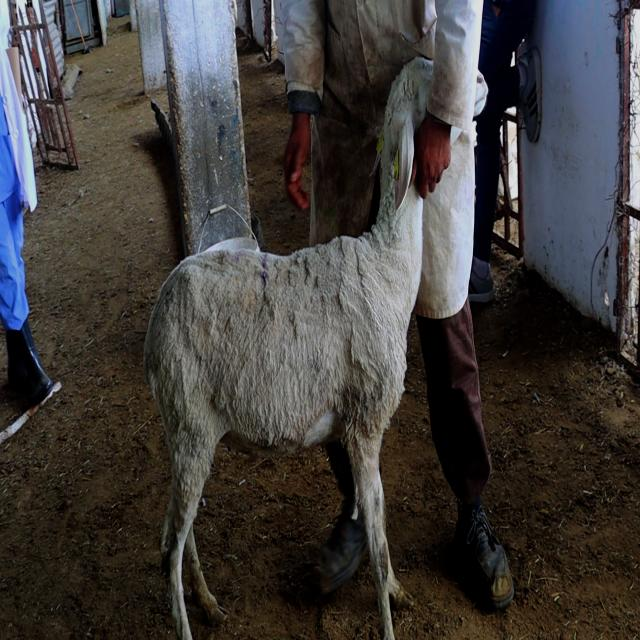Score_1: (144, 57, 431, 639)
